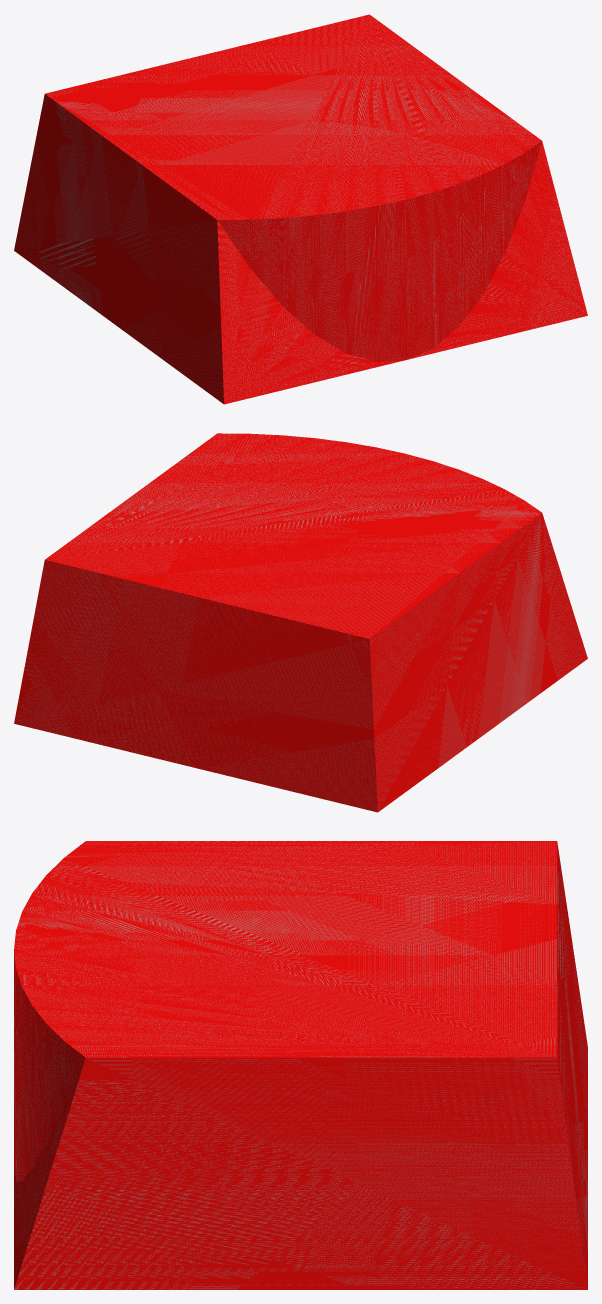
The model's file is original-40.obj.
3 views of the same model, one above another, from view 1: azimuth 30°, elevation 25°; view 2: azimuth 150°, elevation 25°; view 3: azimuth 270°, elevation 25° (orthographic). The views are drawn at different scales.
Parts seen in each view (by area): view 1: Gray_Single_Keycap37/Gray_Single_Keycap/mesh8/mesh8-geometry#mes; view 2: Gray_Single_Keycap37/Gray_Single_Keycap/mesh8/mesh8-geometry#mes; view 3: Gray_Single_Keycap37/Gray_Single_Keycap/mesh8/mesh8-geometry#mes.
Part boxes in pixels (box(x1,y1,x2,y2)): Gray_Single_Keycap37/Gray_Single_Keycap/mesh8/mesh8-geometry#mes: box(14, 14, 587, 404); Gray_Single_Keycap37/Gray_Single_Keycap/mesh8/mesh8-geometry#mes: box(14, 433, 587, 812); Gray_Single_Keycap37/Gray_Single_Keycap/mesh8/mesh8-geometry#mes: box(14, 841, 587, 1289).
Size of the model in its own units: 0.0977 by 0.0412 by 0.0977.
